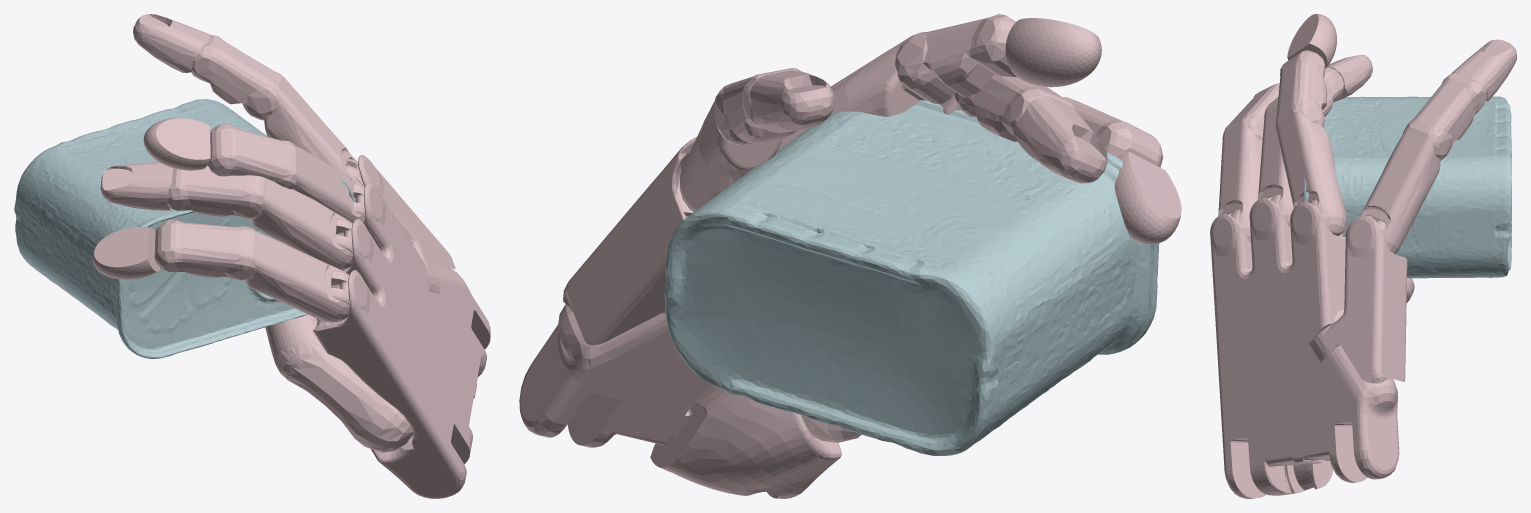
The model's file is grasp_7.glb.
3 views of the same model, side by side, from view 1: azimuth 30°, elevation 25°; view 2: azimuth 150°, elevation 25°; view 3: azimuth 270°, elevation 25° (orthographic). The views are drawn at different scales.
Parts seen in each view (by area): view 1: world; view 2: world; view 3: world.
Part boxes in pixels (x1=…): world: x1=14, y1=14, x2=490, y2=498; world: x1=519, y1=14, x2=1181, y2=498; world: x1=1210, y1=14, x2=1516, y2=498.
Bounding box in the file's own units: 0.1794 × 0.1694 × 0.1224.
